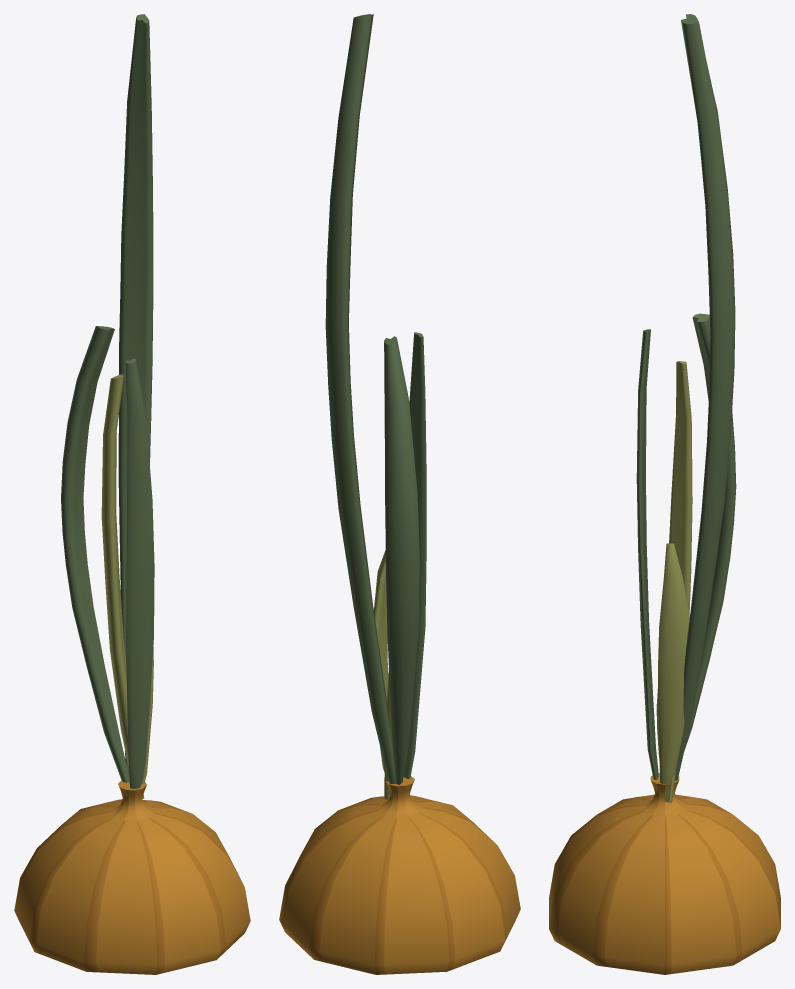
File: PL_onionStage3_01.fbx
The picture shows the model from 3 angles, left to right: view 1: azimuth 30°, elevation 25°; view 2: azimuth 150°, elevation 25°; view 3: azimuth 270°, elevation 25°; orthographic projection. The views are drawn at different scales.
Parts seen in each view (by area): view 1: lod1; view 2: lod1; view 3: lod1.
Part boxes in pixels (x1=…): lod1: x1=14, y1=14, x2=250, y2=974; lod1: x1=279, y1=14, x2=520, y2=974; lod1: x1=549, y1=14, x2=780, y2=974.
Size of what is drawn, in the model's own units: 32.97 by 137 by 31.36.
1 material, 1 textured.
